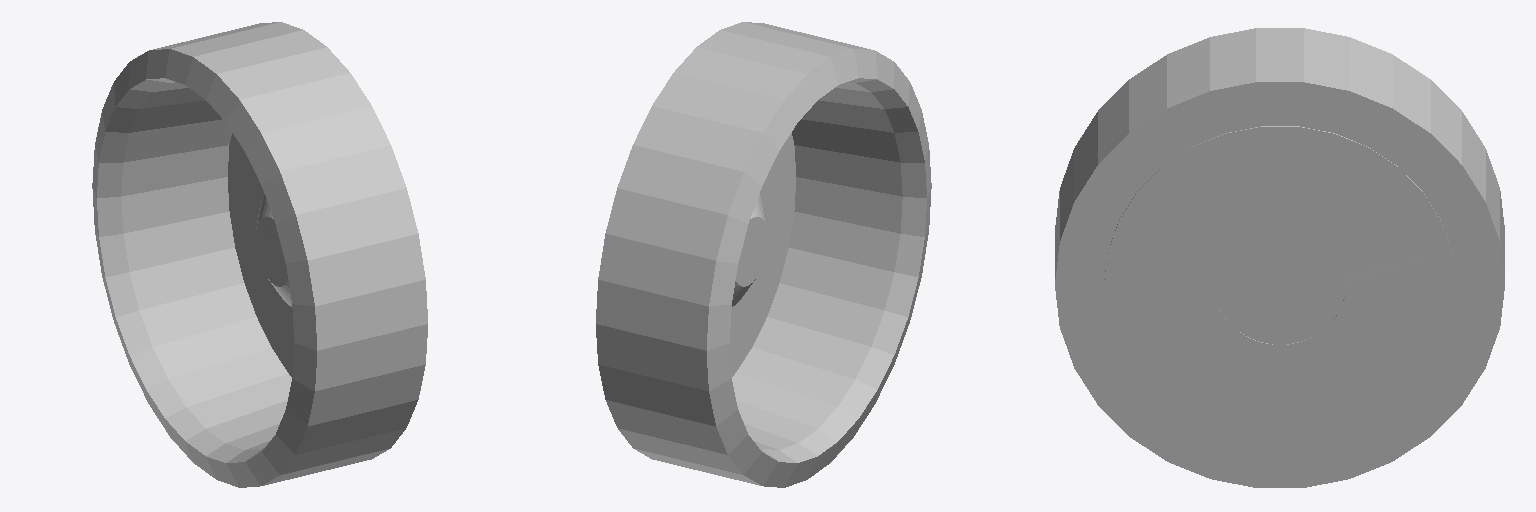
File: cerchioneR1B.obj
3 views of the same model, side by side, from view 1: azimuth 30°, elevation 25°; view 2: azimuth 150°, elevation 25°; view 3: azimuth 270°, elevation 25° (orthographic).
Parts seen in each view (by area): view 1: Cylinder71; view 2: Cylinder71; view 3: Cylinder71.
Part boxes in pixels (x1,y1,x2,y2): Cylinder71: (92, 22, 427, 487); Cylinder71: (596, 22, 931, 487); Cylinder71: (1055, 28, 1504, 487).
Bounding box in the file's own units: 1.99 × 6.37 × 6.4.